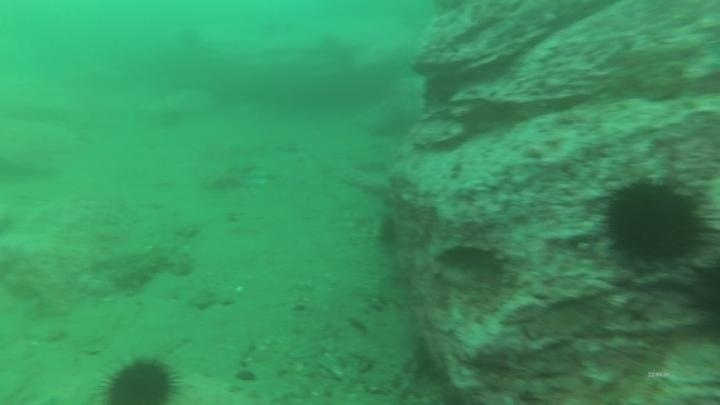echinus: (596, 173, 713, 271), (96, 353, 184, 404)
holothurian: (106, 241, 194, 296)
